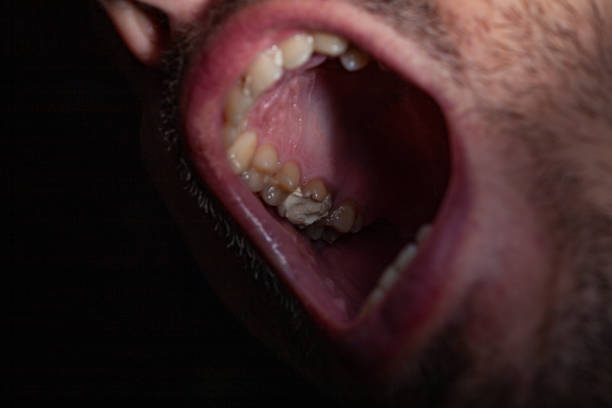Caries: (271, 186, 365, 254)
